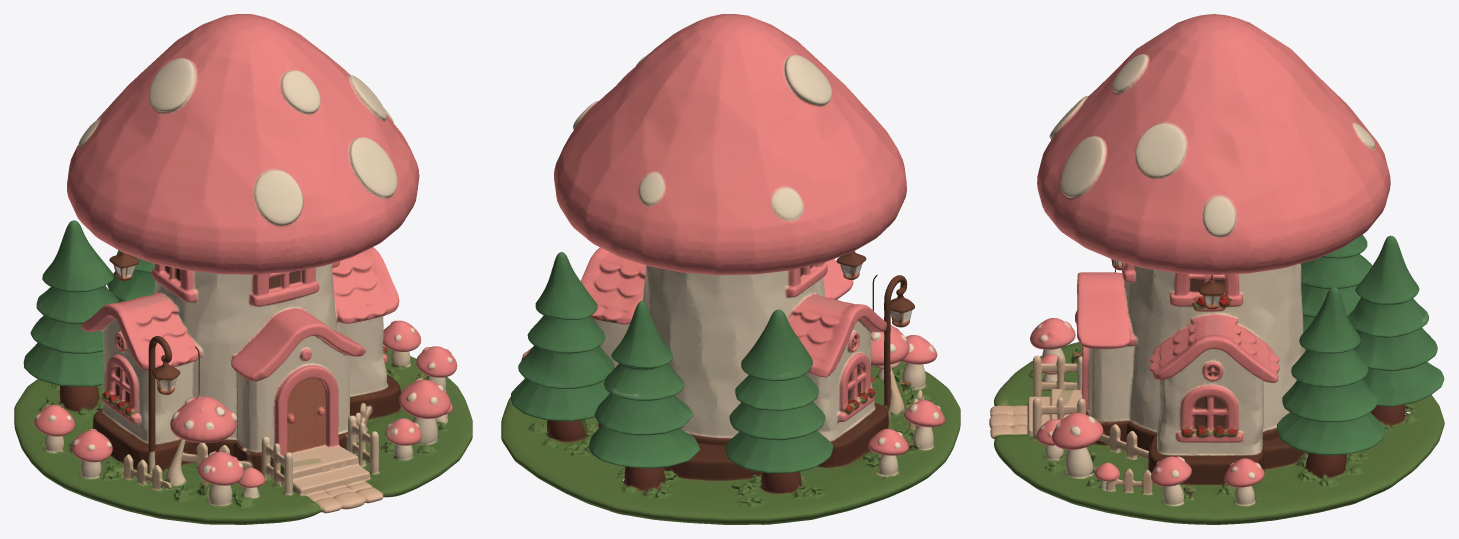
The model's file is Meshy_AI_Mushroom_Cottage_Wond_1014111202_texture.fbx.
3 views of the same model, side by side, from view 1: azimuth 30°, elevation 25°; view 2: azimuth 150°, elevation 25°; view 3: azimuth 270°, elevation 25° (orthographic).
Parts seen in each view (by area): view 1: Mesh_0; view 2: Mesh_0; view 3: Mesh_0.
Boxes of the visible parts, x1,y1,x2,y2 form: Mesh_0: (14, 14, 472, 524); Mesh_0: (501, 14, 960, 524); Mesh_0: (989, 14, 1444, 524).
Size of the model in its own units: 190 by 185 by 187.
Materials: 1 (1 with a texture image).
